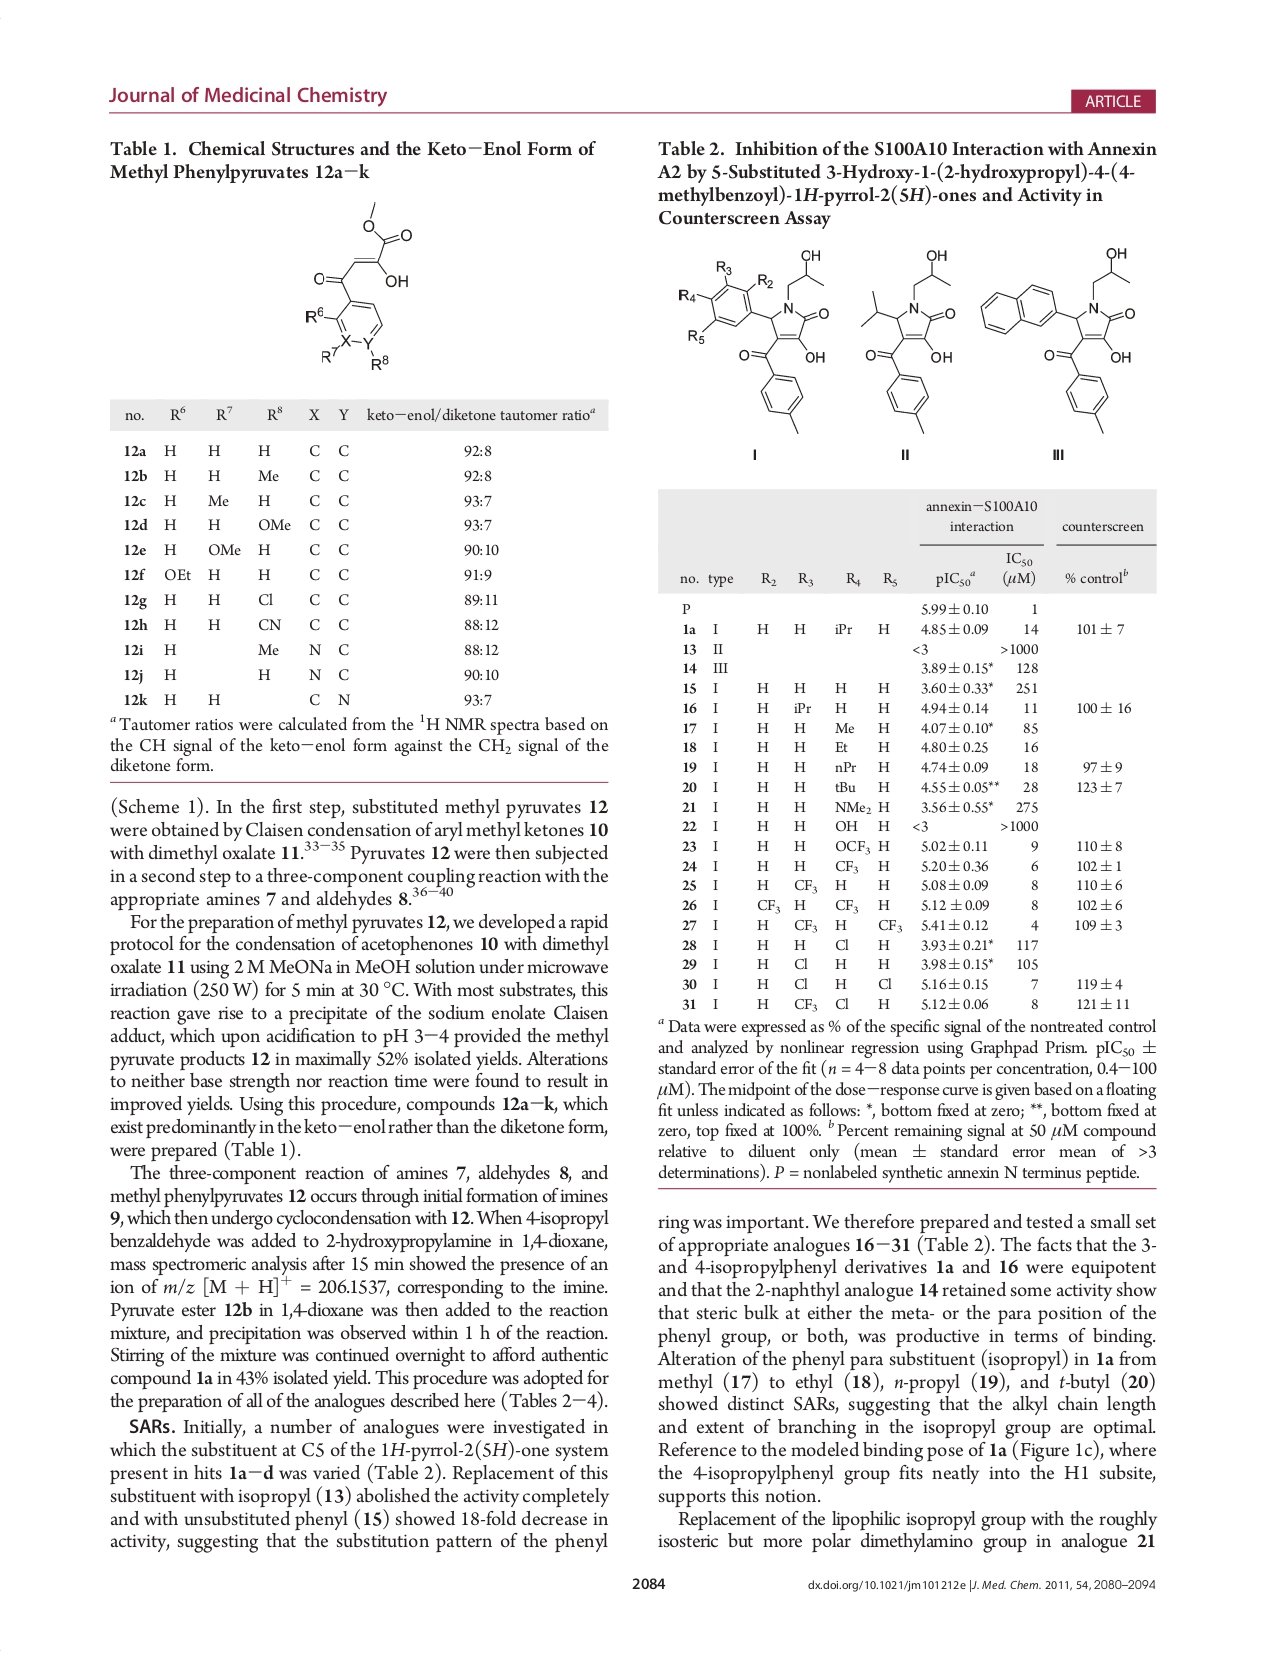exist_molecular: (977, 241, 1144, 438), (672, 246, 836, 438), (294, 198, 430, 374), (858, 243, 964, 438)
